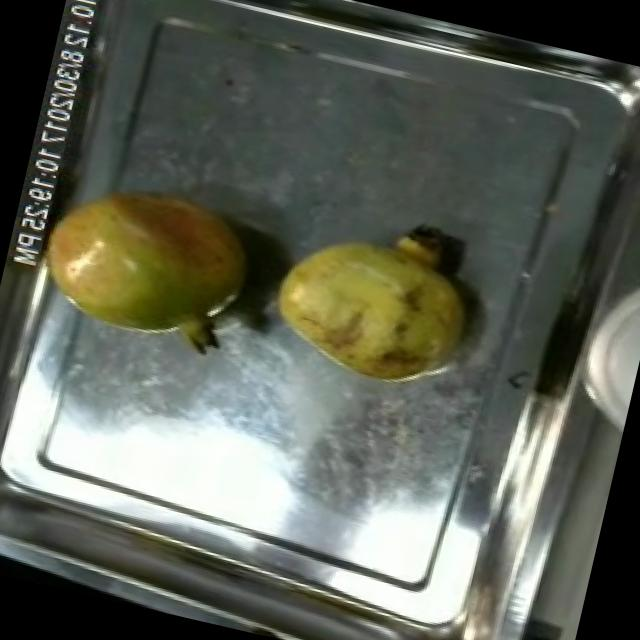fruit: (250, 196, 496, 406), (21, 159, 267, 363), (551, 250, 640, 458)
